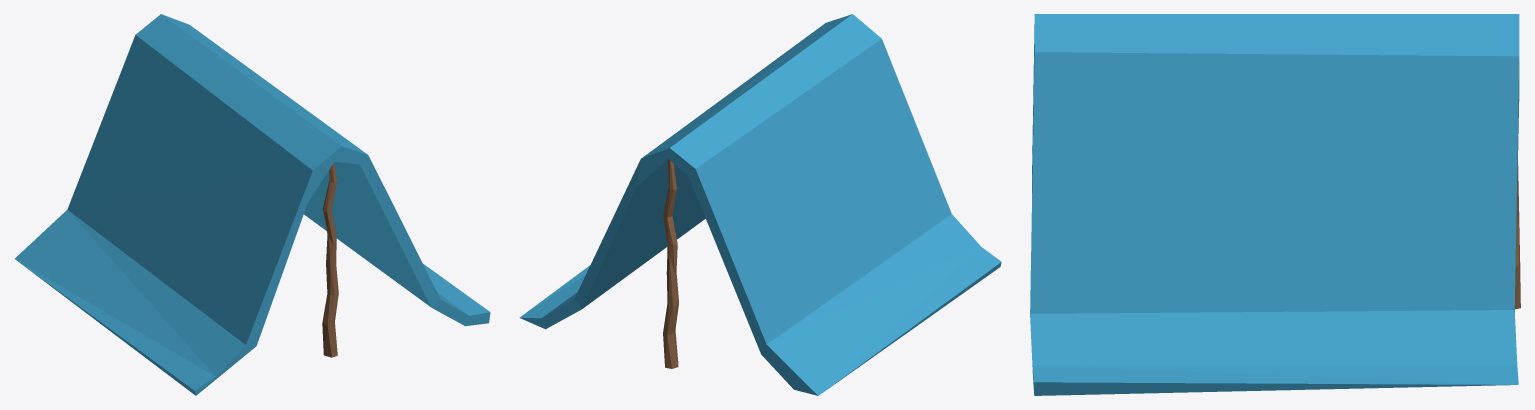
The model's file is tent_blue.fbx.
The picture shows the model from 3 angles, left to right: view 1: azimuth 30°, elevation 25°; view 2: azimuth 150°, elevation 25°; view 3: azimuth 270°, elevation 25°; orthographic projection. The views are drawn at different scales.
Parts seen in each view (by area): view 1: tent_blue; view 2: tent_blue; view 3: tent_blue.
Boxes of the visible parts, x1=… form: tent_blue: x1=15, y1=14, x2=490, y2=395; tent_blue: x1=519, y1=14, x2=1001, y2=395; tent_blue: x1=1030, y1=14, x2=1520, y2=395.
Bounding box in the file's own units: 278 × 196 × 299.
